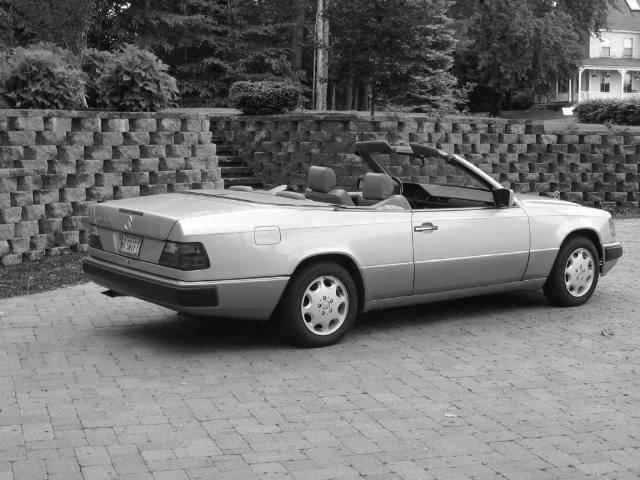car: (55, 116, 639, 377)
